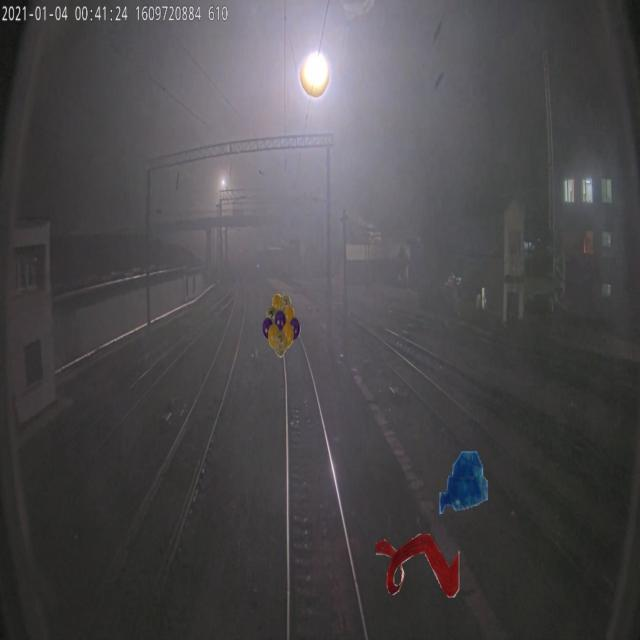balloon: (262, 294, 300, 358)
floating object: (376, 534, 460, 598)
plastic bag: (439, 450, 490, 514)
